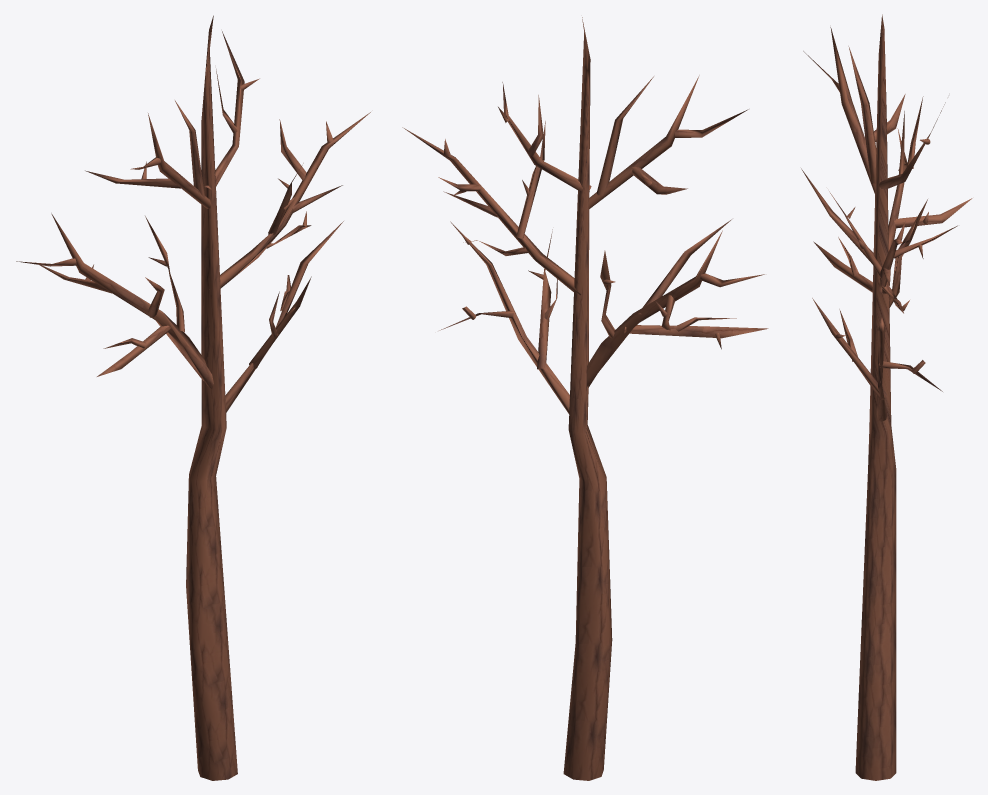
The model's file is decor-marais-arbremort-0.glb.
3 renders of one model, left to right at view 1: azimuth 30°, elevation 25°; view 2: azimuth 150°, elevation 25°; view 3: azimuth 270°, elevation 25°, orthographic.
Visible parts, largest first — view 1: decor:marais:arbremort:0; view 2: decor:marais:arbremort:0; view 3: decor:marais:arbremort:0.
Boxes of the visible parts, x1=… form: decor:marais:arbremort:0: x1=16, y1=15, x2=370, y2=780; decor:marais:arbremort:0: x1=402, y1=17, x2=768, y2=780; decor:marais:arbremort:0: x1=801, y1=14, x2=972, y2=780.
Bounding box in the file's own units: 1.5 × 3 × 0.6272.
1 material, 1 textured.
